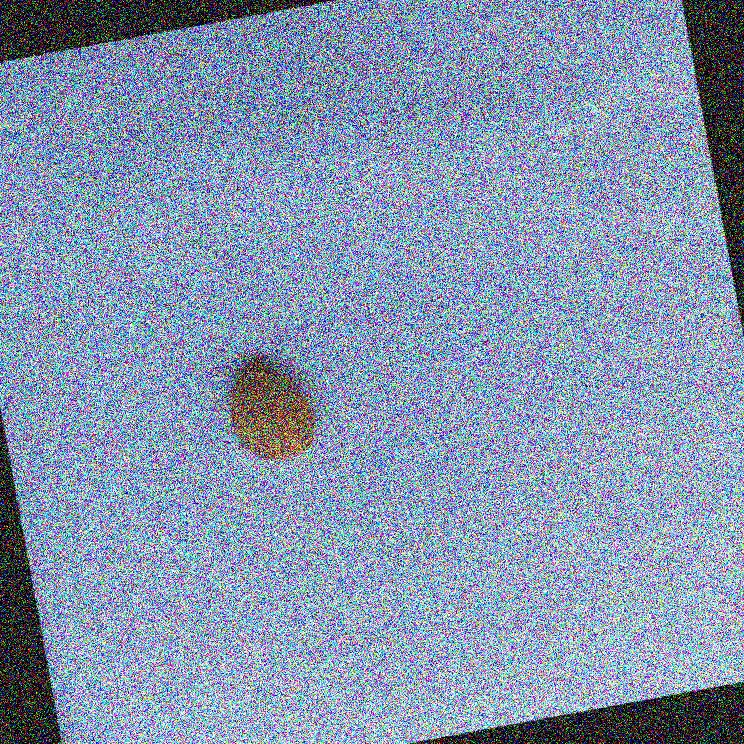grade2: (217, 345, 329, 471)
